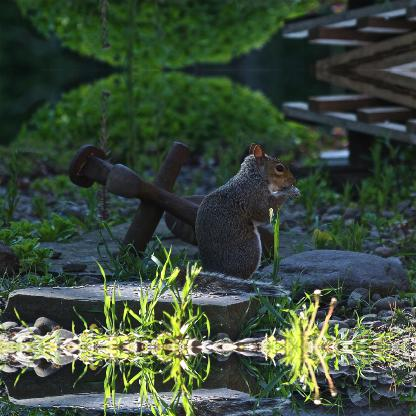Squirrel: (173, 142, 307, 292)
